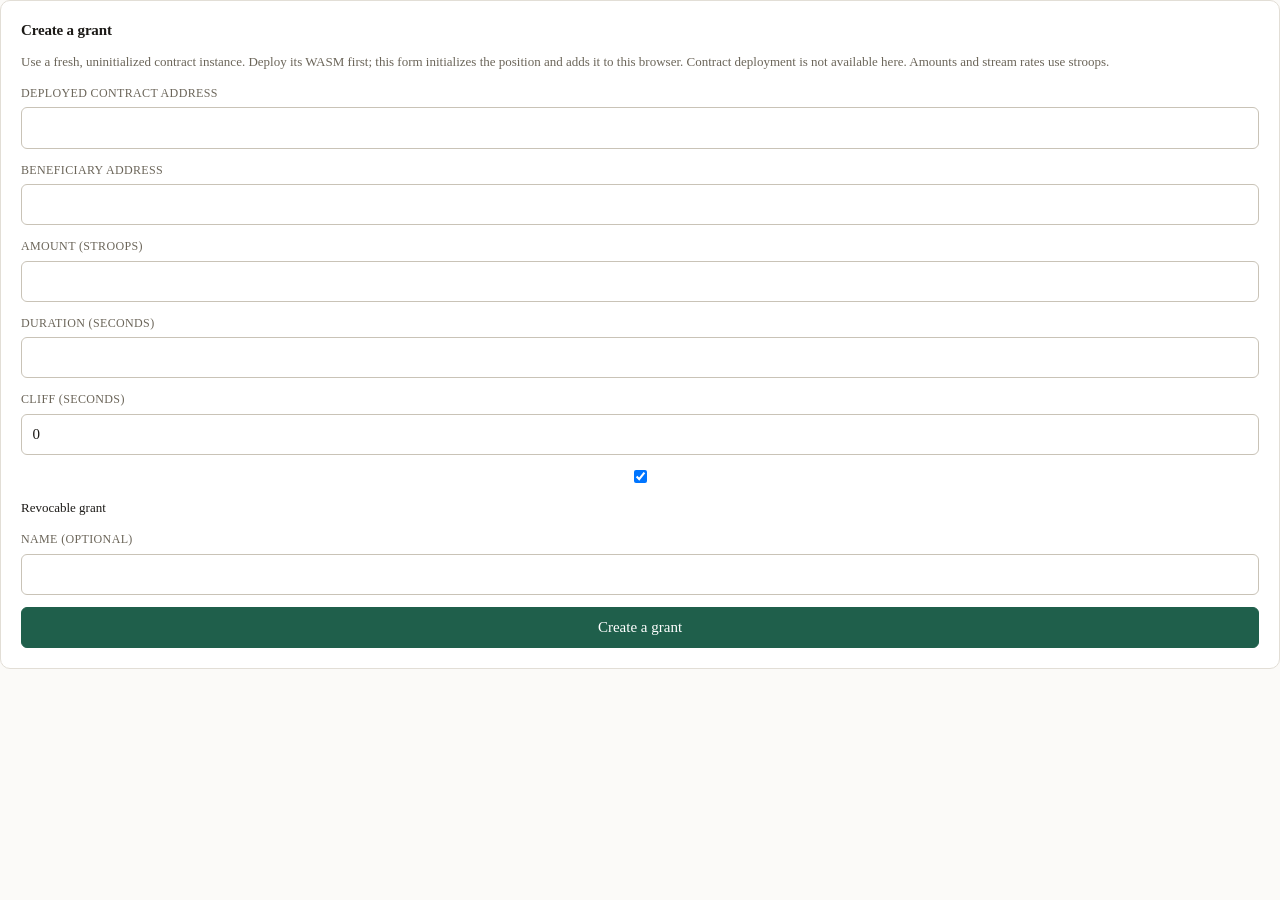
Test: CreatePositionForm validation & inline errors (#293) › shows an inline error when amount has too many decimal places (more than 7)
The width and height of the screenshot is (1280, 900).
Step 1. Type "CDLZFC3SYJYDZT7K67VZ75HPJVIEUVNIXF47ZG2FB2RMQQVU2HHGCYSC" into the field labelled "Deployed contract address" → (640, 128), box [21,107,1259,149]
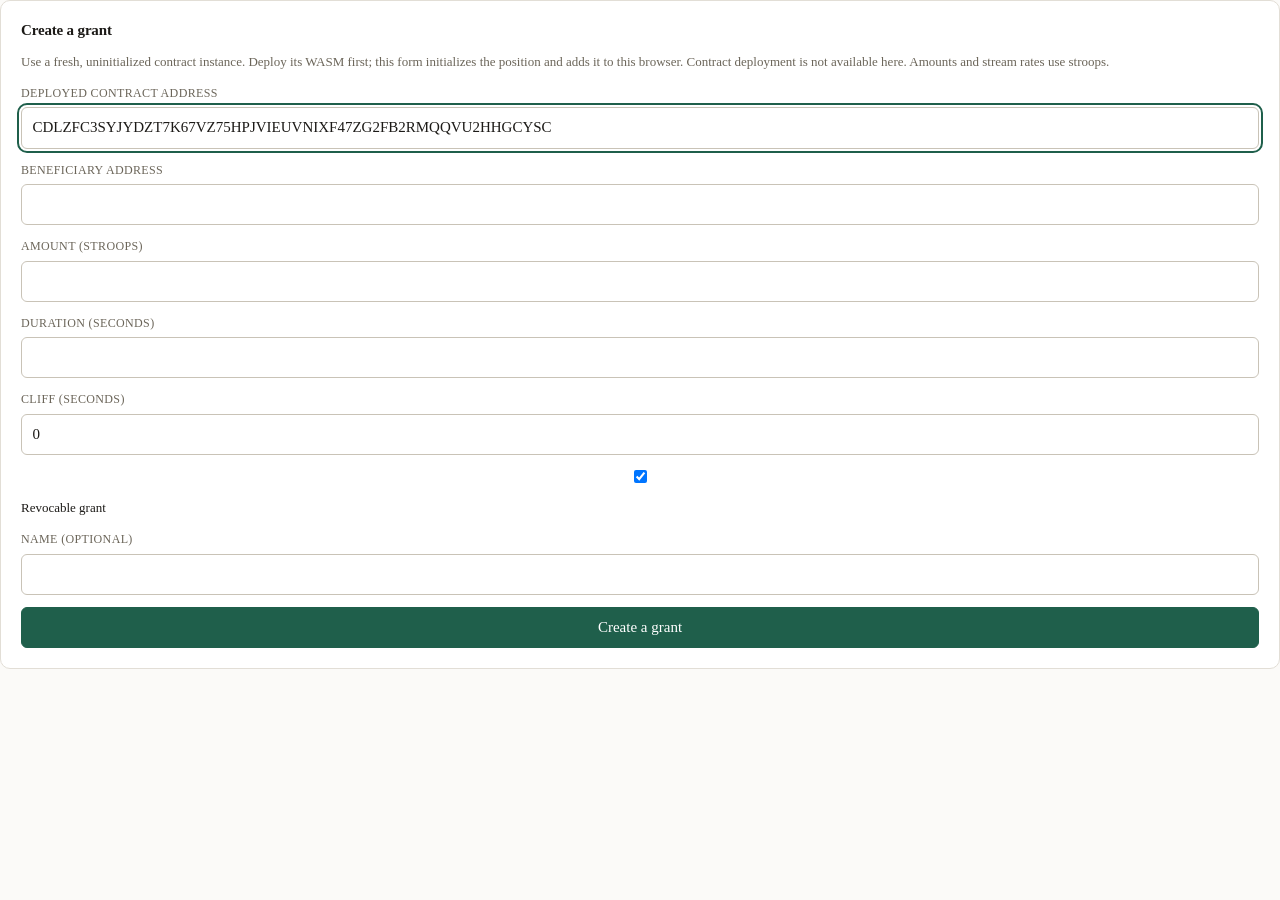
Step 2. Type "GBRPYHIL2CI3WHZDTOOQFC6EB4KJJGUJSY3NXMOCLWEZDTWE47XLNZT7" into the field labelled "Beneficiary address" → (640, 205), box [21,184,1259,225]
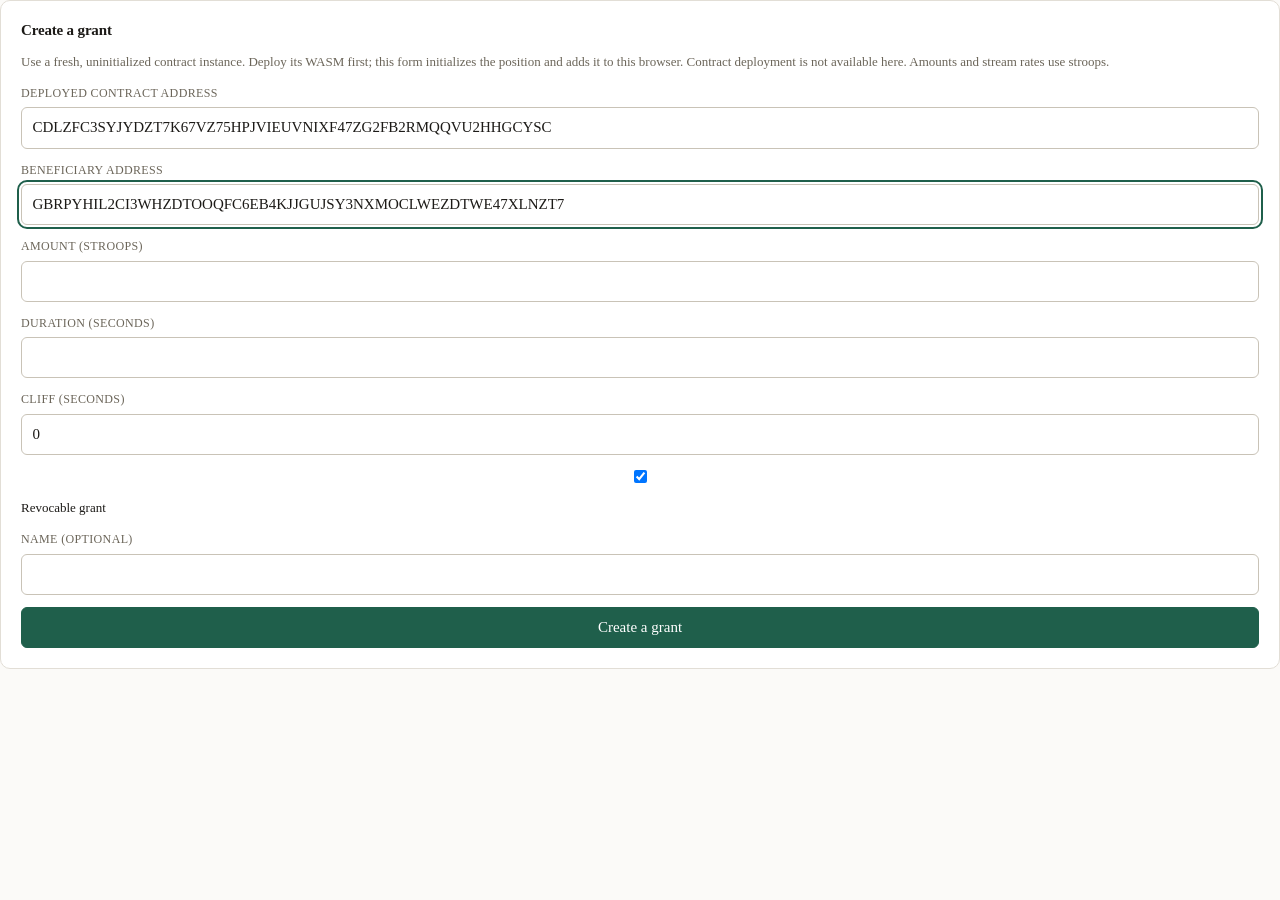
# 8 decimals: "10.12345678"
Step 3. Type "10.12345678" into the field labelled "Amount (stroops)" → (640, 281), box [21,261,1259,302]
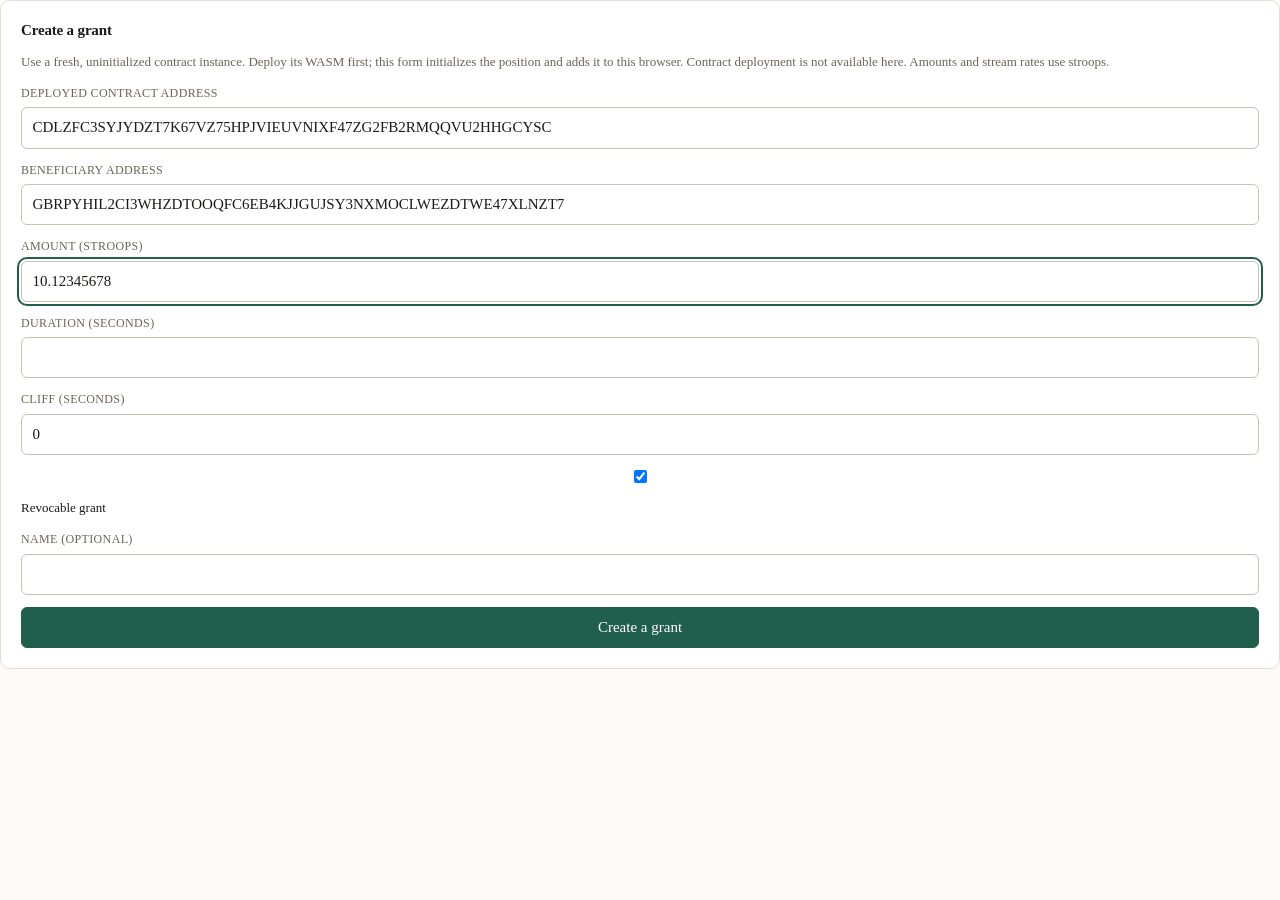
Step 4. Type "3600" into the field labelled "Duration (seconds)" → (640, 358), box [21,337,1259,378]
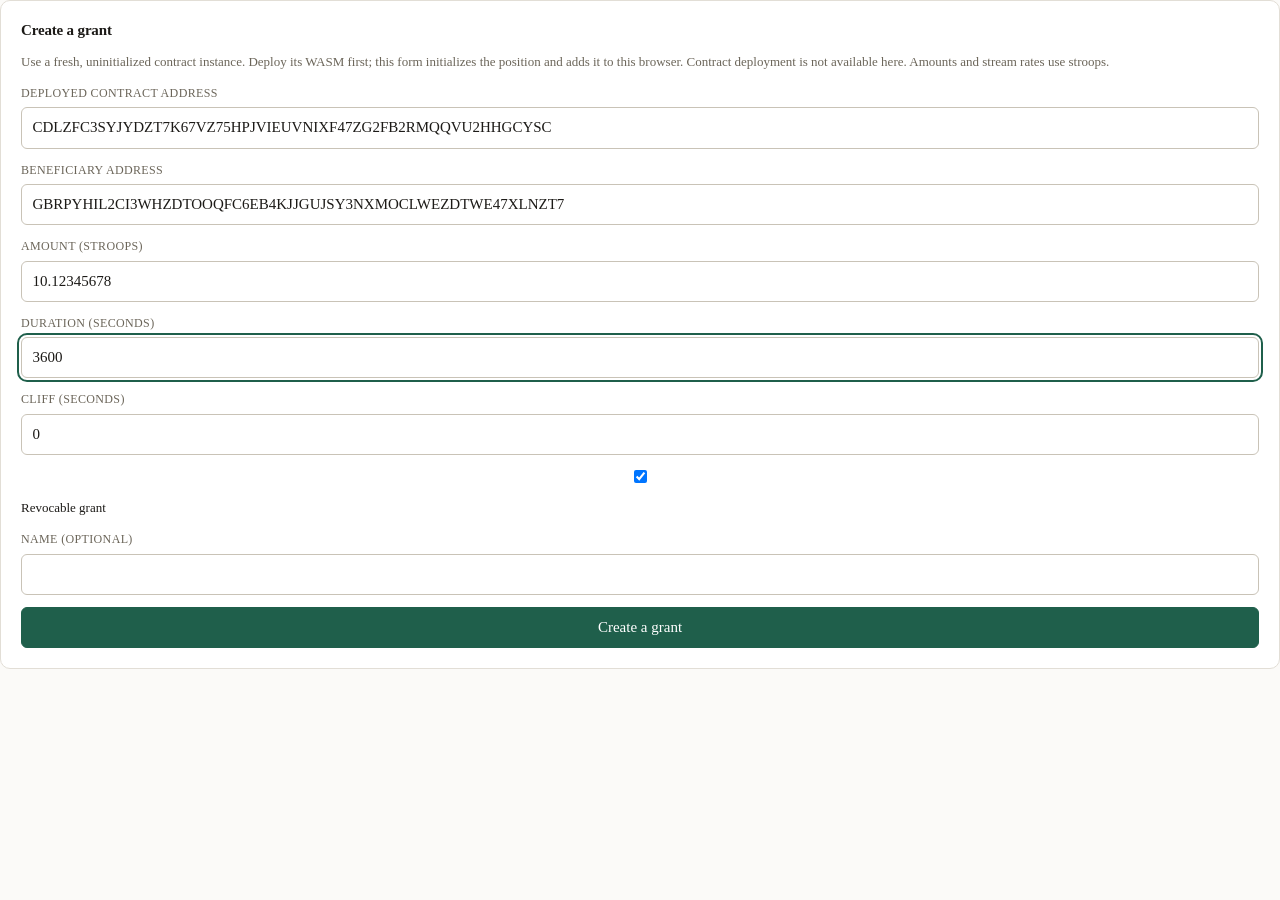
Step 5. Click the button "Create a grant" → (640, 628), box [21,607,1259,648]
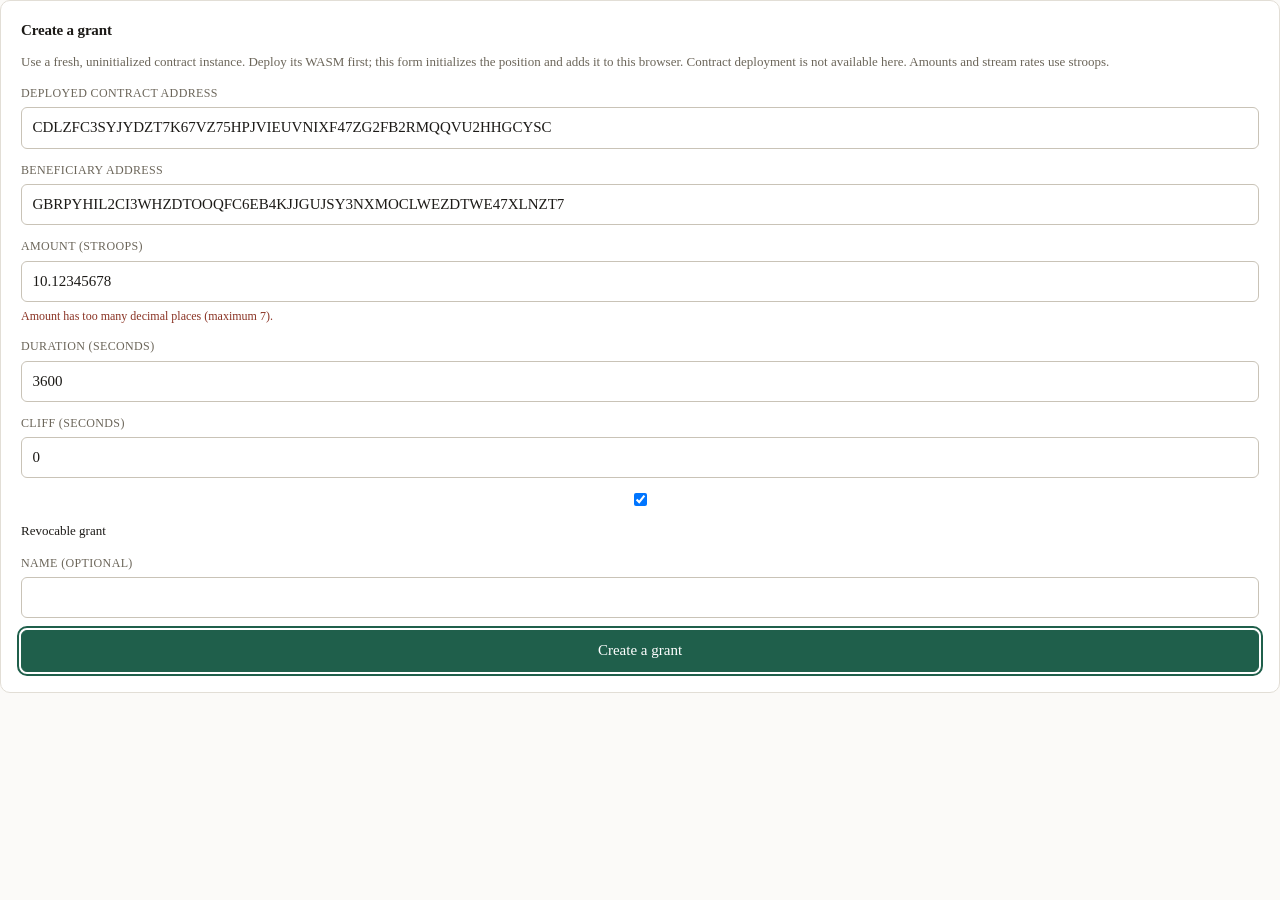
expect the text "Amount has too many decimal places (maximum 7)." is shown: met, box [21,309,273,323]
